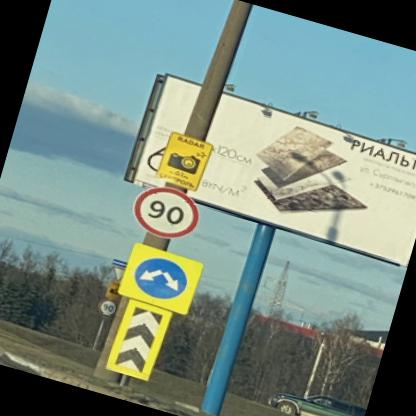speedlimit: (126, 178, 202, 245), (96, 297, 118, 316)
